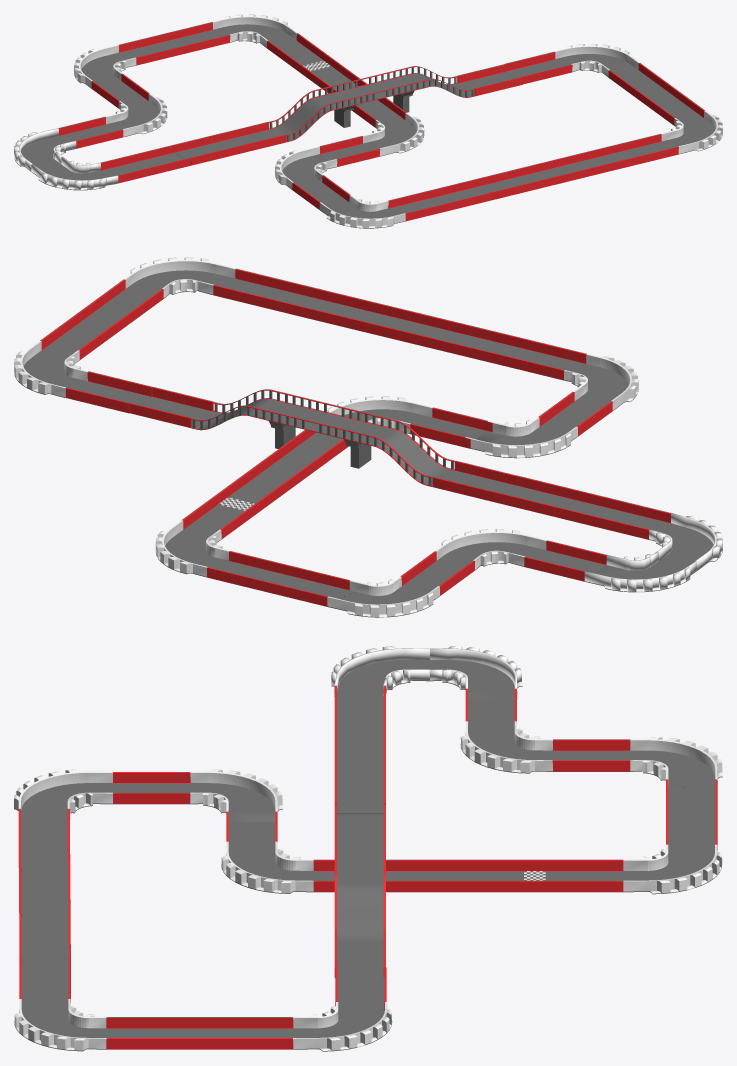
File: TEST-course.glb
3 renders of one model, top to bottom at view 1: azimuth 30°, elevation 25°; view 2: azimuth 150°, elevation 25°; view 3: azimuth 270°, elevation 25°, orthographic. The views are drawn at different scales.
Parts seen in each view (by area): view 1: Cube.004; view 2: Cube.004; view 3: Cube.004.
Part boxes in pixels (x1,y1,x2,y2): Cube.004: (14, 14, 722, 228); Cube.004: (14, 257, 722, 617); Cube.004: (14, 646, 722, 1051).
Size of the model in its own units: 257 by 13.68 by 195.
